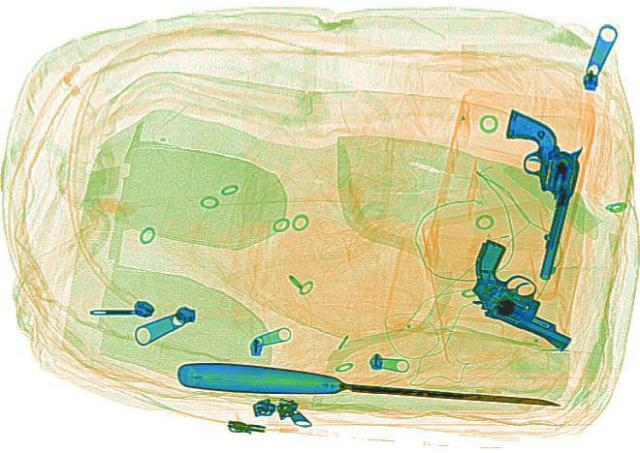Gun: (474, 108, 588, 277), (440, 230, 570, 361)
Knife: (171, 352, 564, 424)
